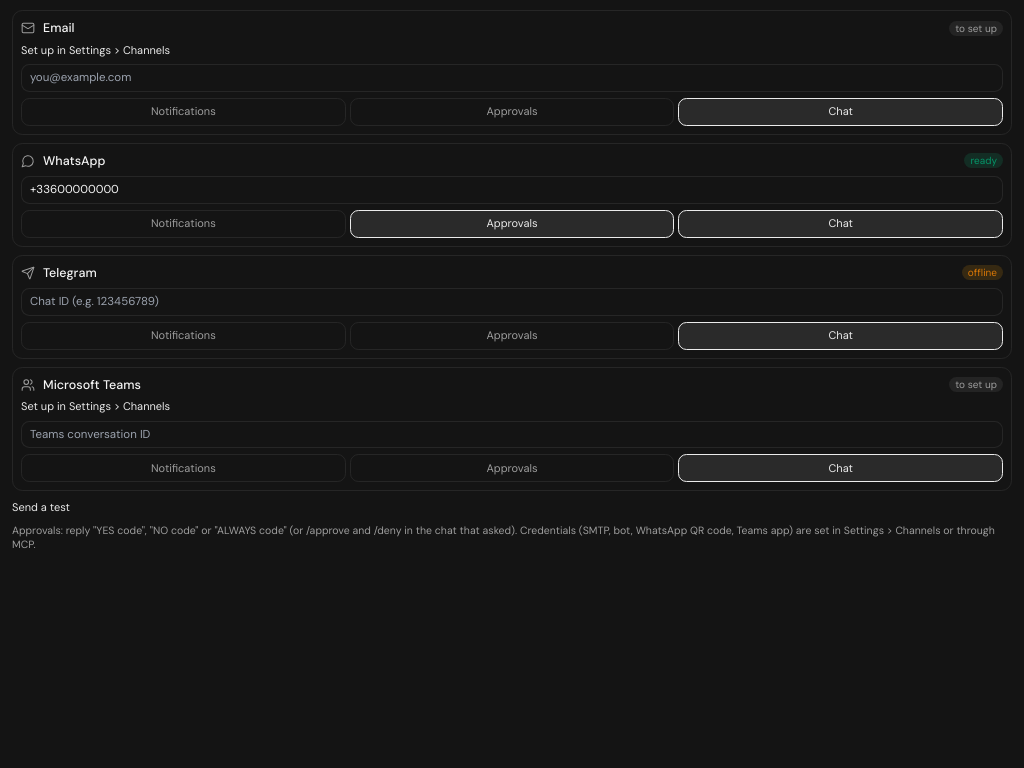
RemoteChannelsPanel › reports the test result and the error states
This screenshot has width=1024, height=768.
Click the button "Send a test".
click(41, 507)  # box [12,499,70,516]
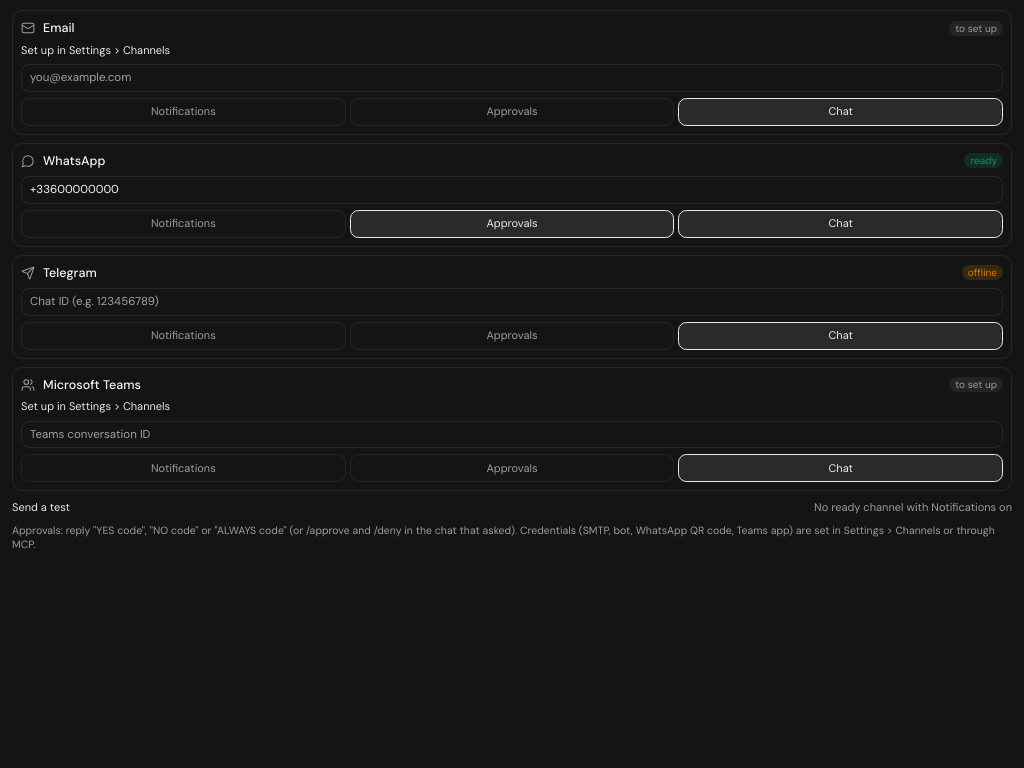
Expected: the text "No ready channel with Notifications on" is shown, [814,499,1012,516]
Click the 1st button "Chat".
click(841, 112)  # box [678,98,1003,126]
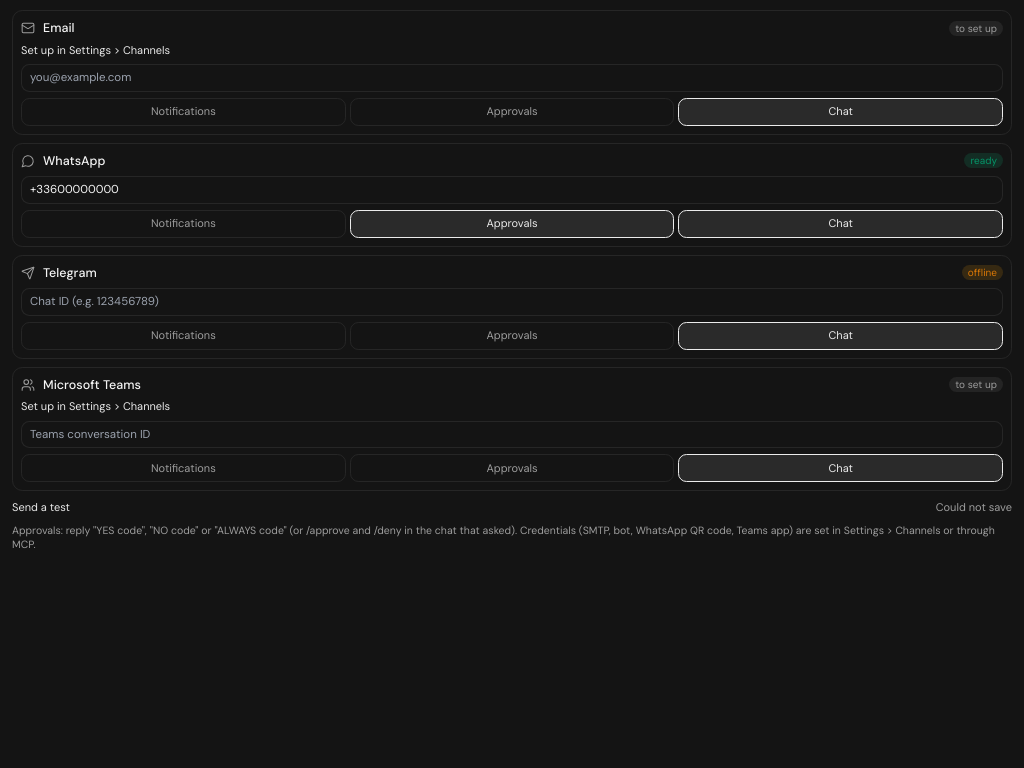
Expected: the text "Could not save" is shown, [936,499,1012,516]
